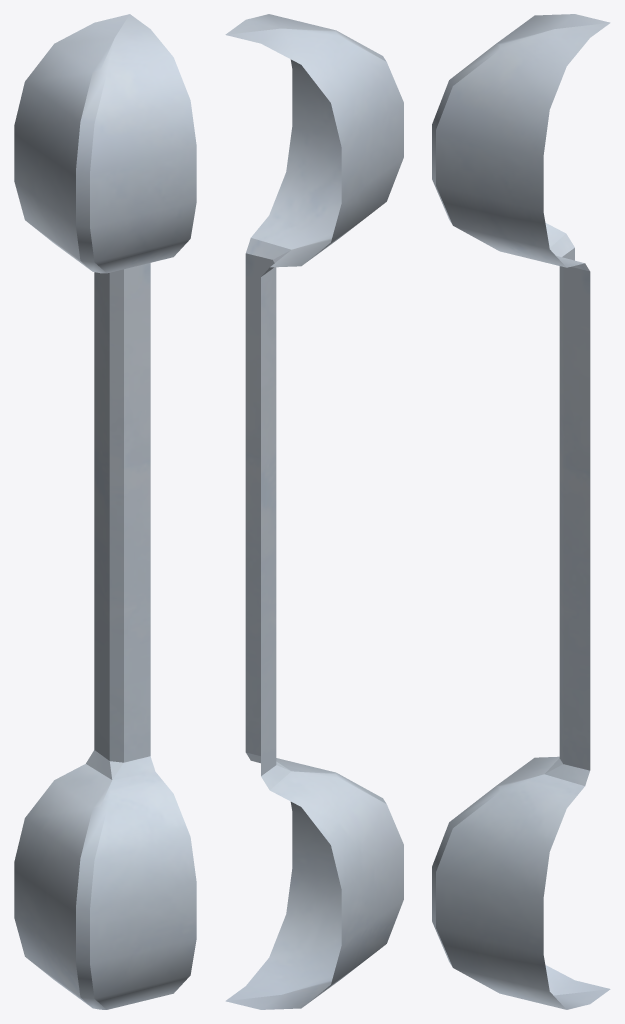
File: Corner middle.fbx
The picture shows the model from 3 angles, left to right: view 1: azimuth 30°, elevation 25°; view 2: azimuth 150°, elevation 25°; view 3: azimuth 330°, elevation 25°; orthographic projection.
Parts seen in each view (by area): view 1: Corner middle; view 2: Corner middle; view 3: Corner middle.
Boxes of the visible parts, left/top/right/bottom form: Corner middle: left=14, top=14, right=196, bottom=1009; Corner middle: left=225, top=14, right=403, bottom=1009; Corner middle: left=432, top=14, right=610, bottom=1009.
Bounding box in the file's own units: 6.47 × 51.19 × 6.47.
